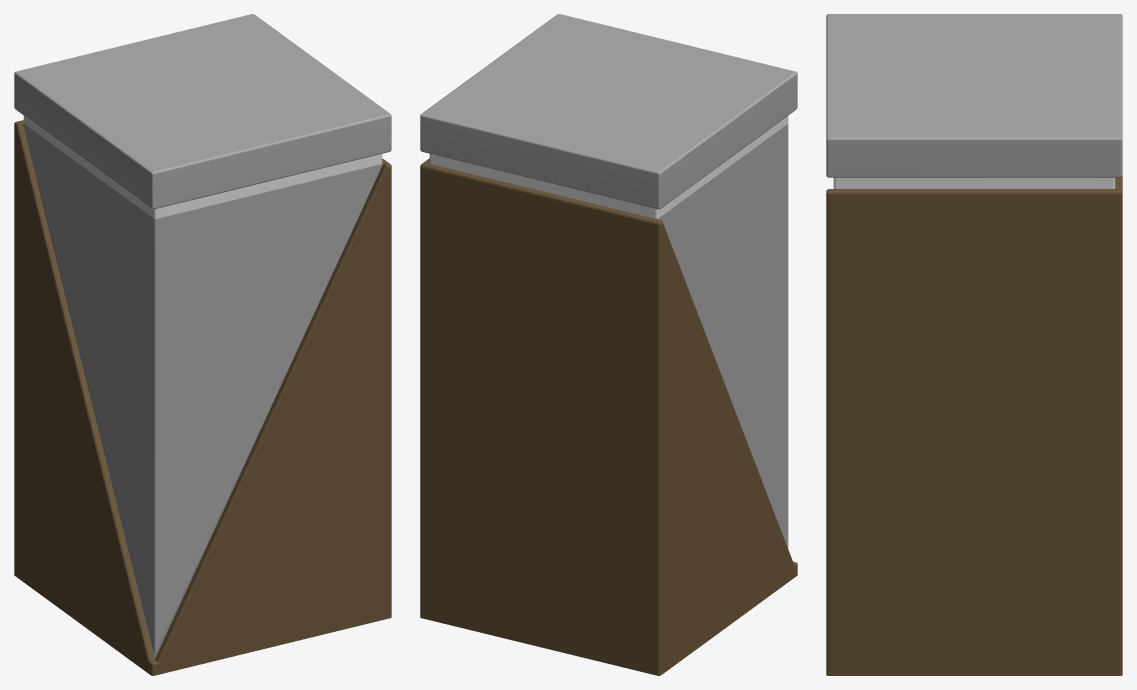
The model's file is A_dancefloor_podium_01_.fbx.
3 views of the same model, side by side, from view 1: azimuth 30°, elevation 25°; view 2: azimuth 150°, elevation 25°; view 3: azimuth 270°, elevation 25° (orthographic). The views are drawn at different scales.
Visible parts, largest first — view 1: A_dancefloor_podium_01_; view 2: A_dancefloor_podium_01_; view 3: A_dancefloor_podium_01_.
Boxes of the visible parts, x1=… form: A_dancefloor_podium_01_: x1=14, y1=14, x2=391, y2=675; A_dancefloor_podium_01_: x1=420, y1=14, x2=797, y2=675; A_dancefloor_podium_01_: x1=826, y1=14, x2=1122, y2=675.
Size of the model in its own units: 200 by 400 by 200.
